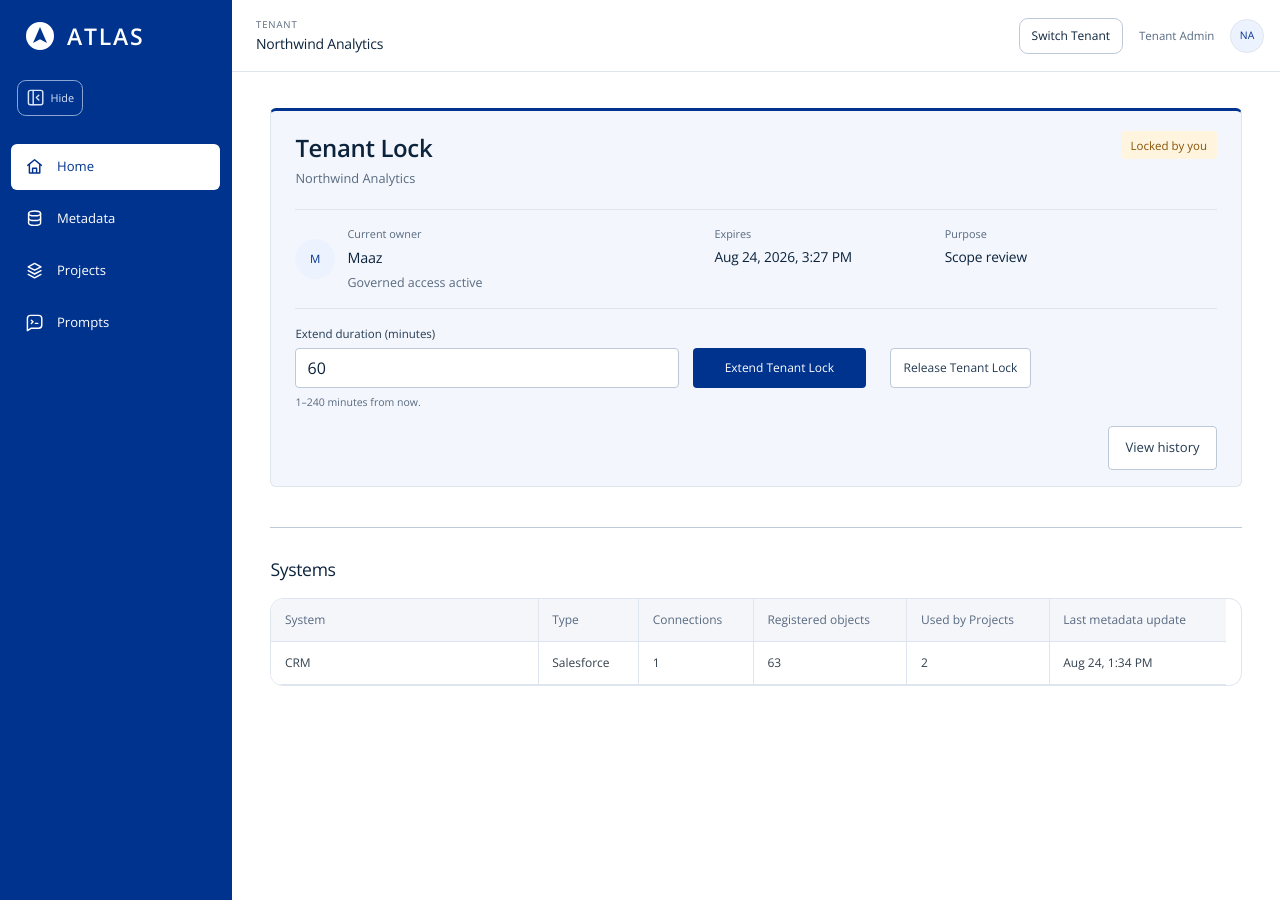
it: Tenant Home › connects confirmed Tenant Lock release to refreshed Home state
Expected: the text "Locked by you" is shown, [1121,131,1217,160]
Step 1. Click the button "Release Tenant Lock" → coordinates (960, 368), box [890,348,1031,388]
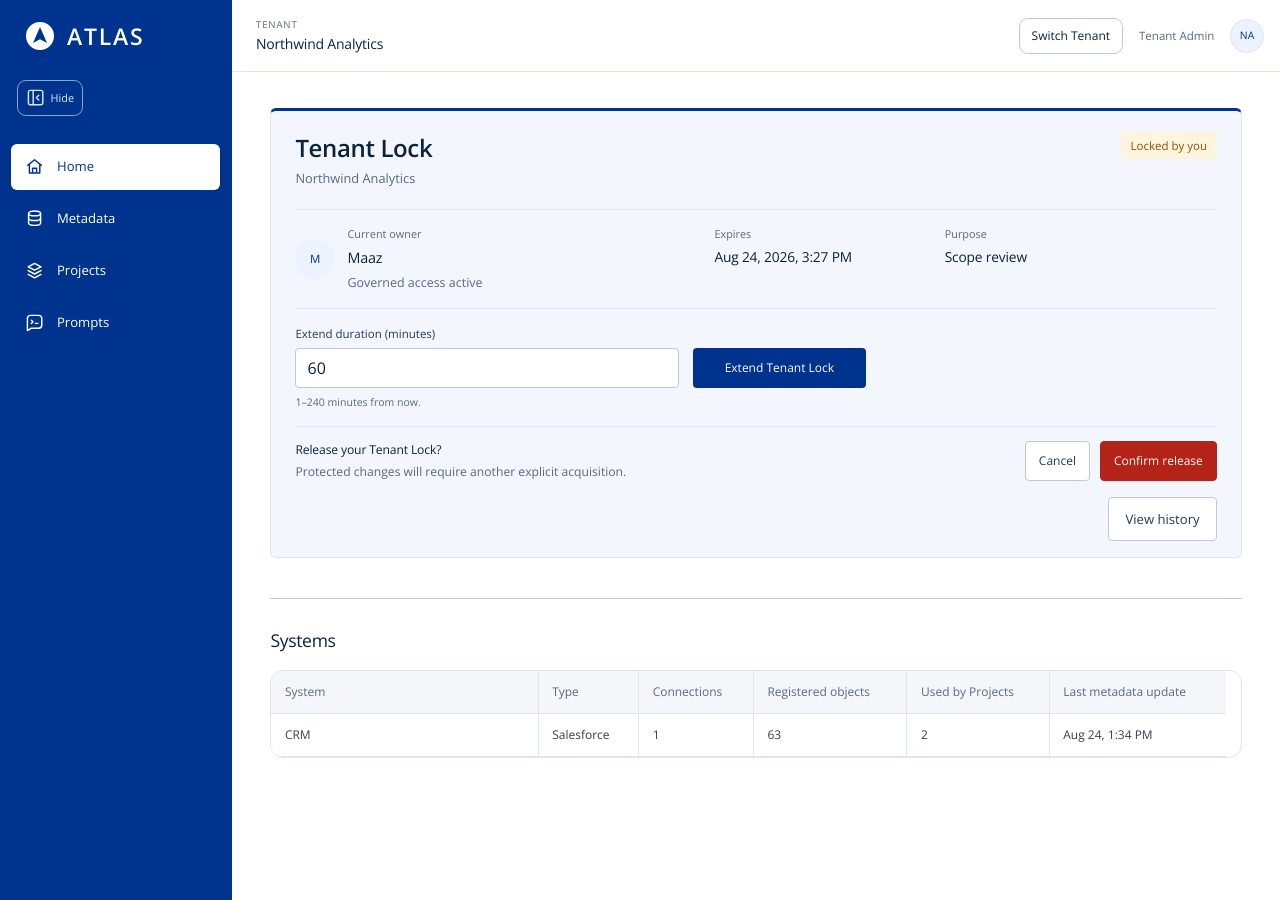
Step 2. Click the button "Confirm release" → coordinates (1158, 461), box [1100,441,1217,481]
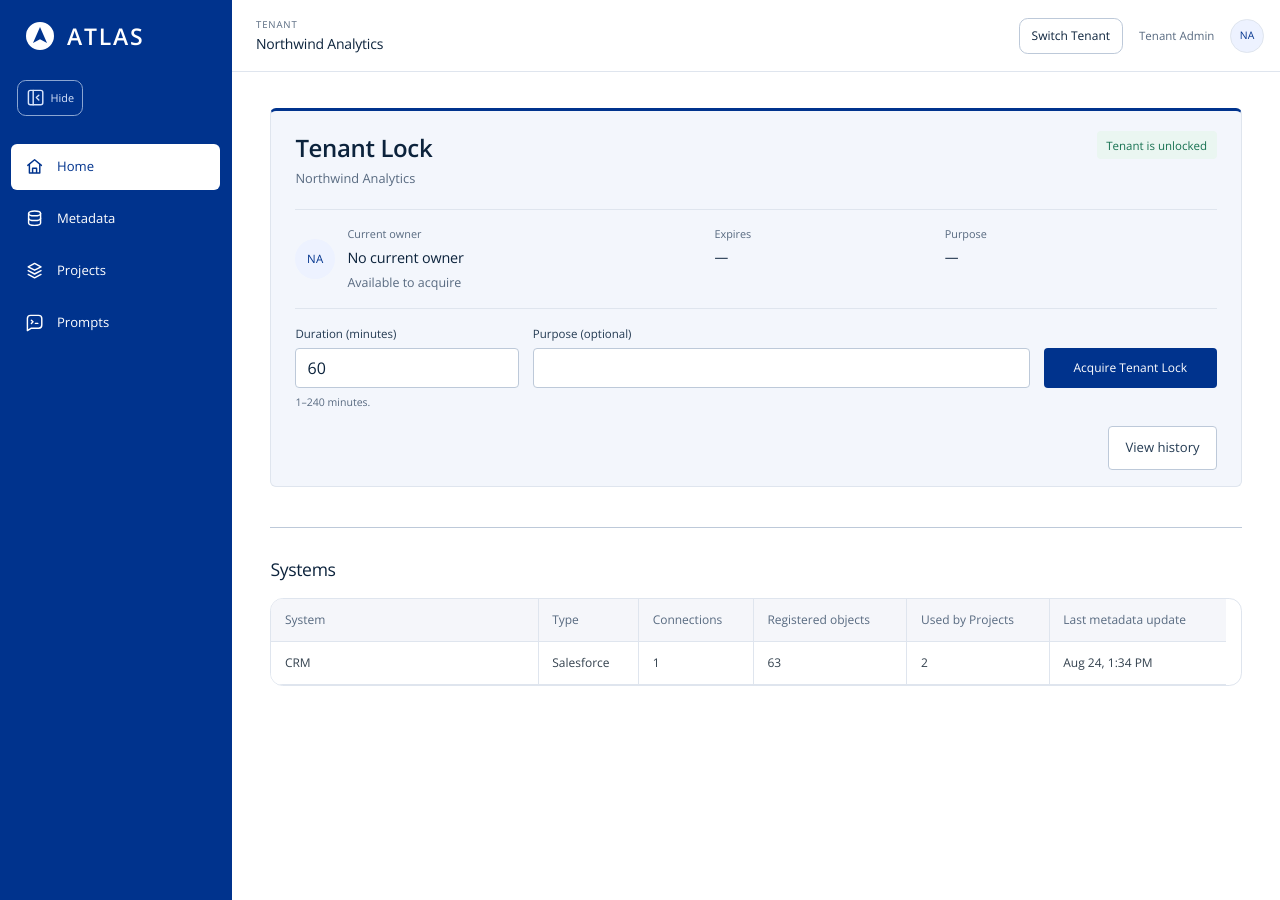
Expected: the text "Tenant is unlocked" is shown, [1097,131,1217,160]
